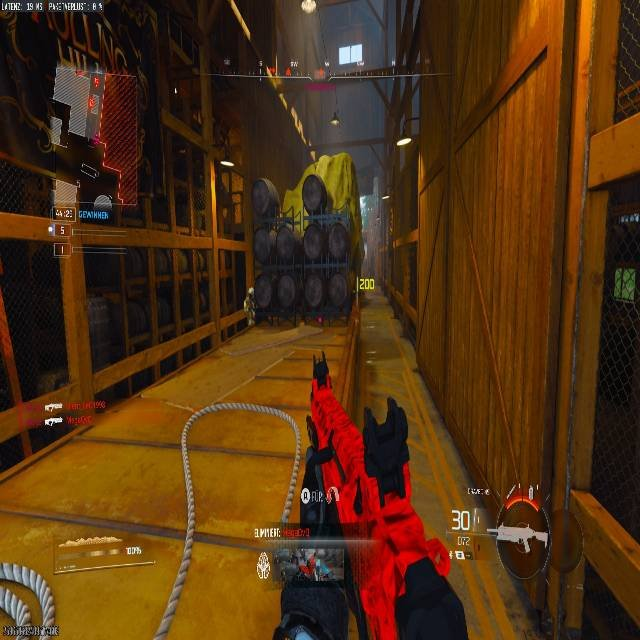player: (244, 287, 256, 325)
